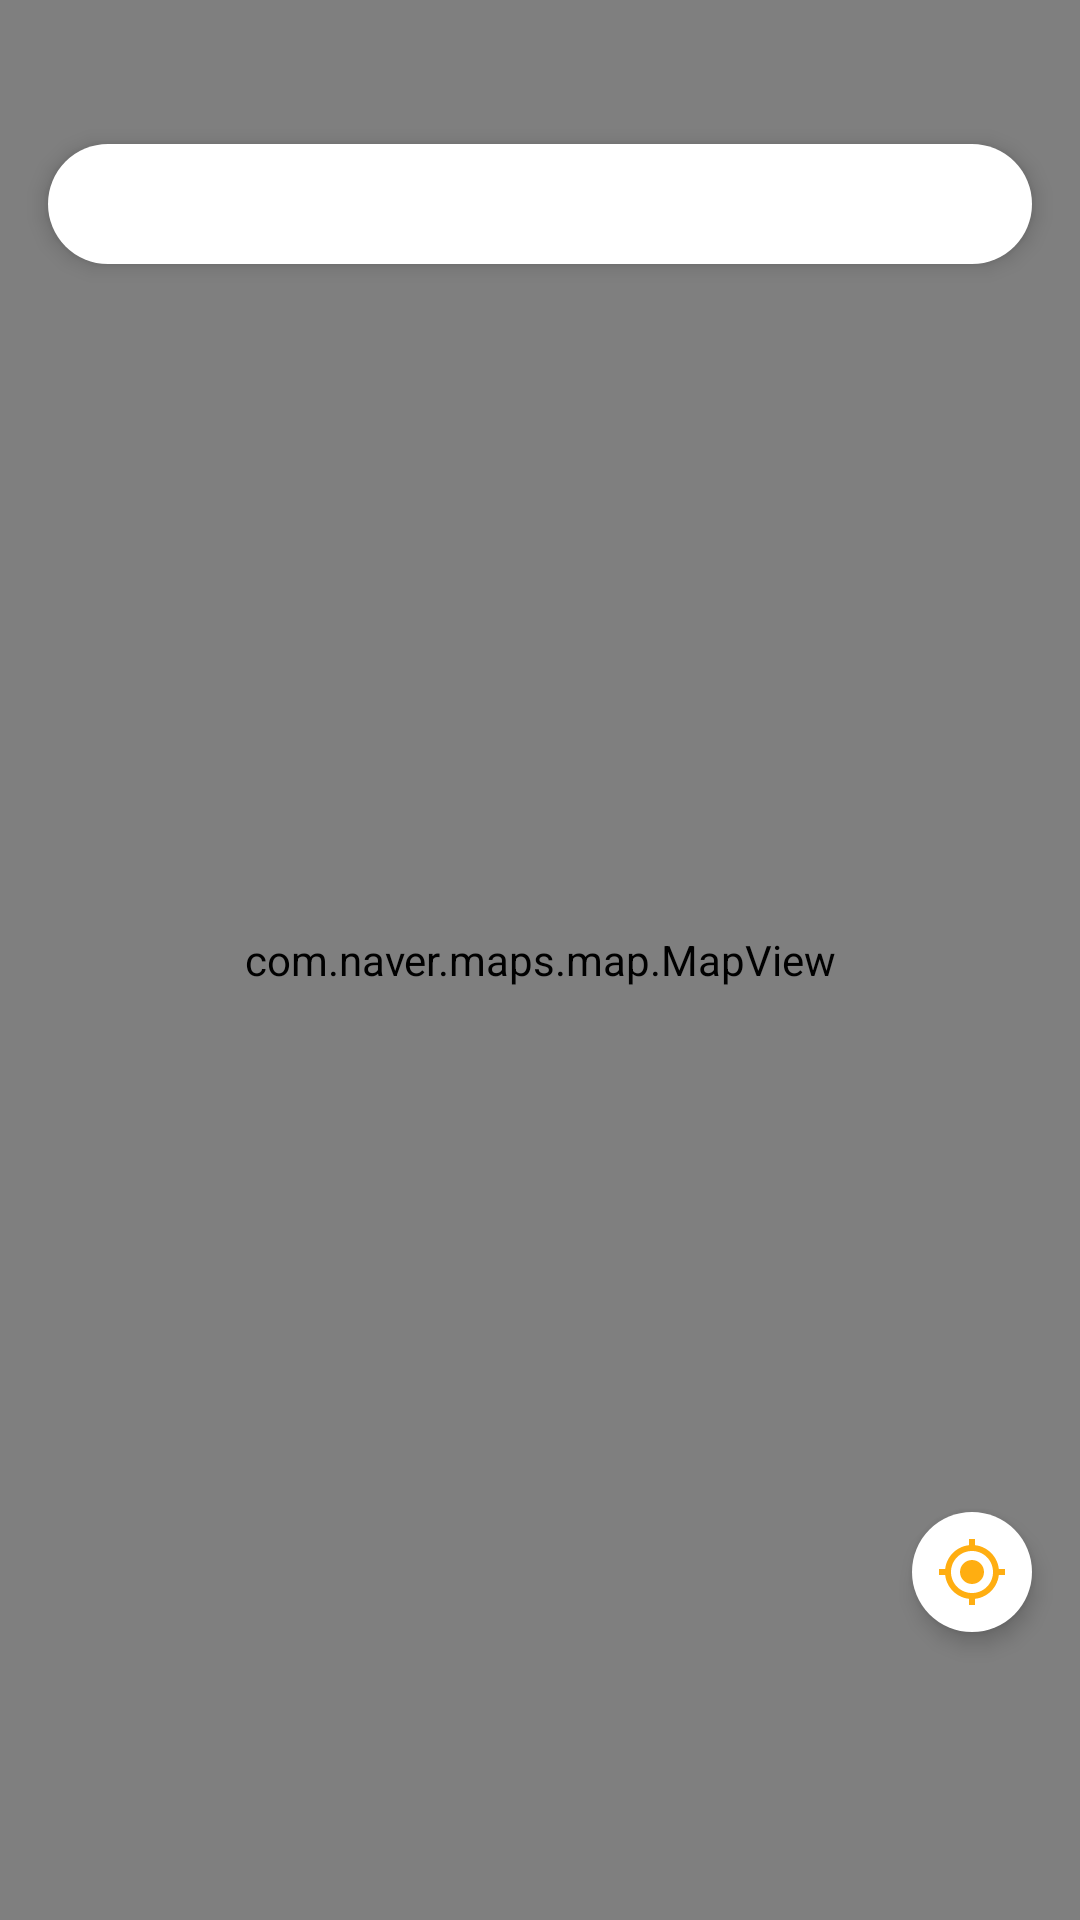

Where icons sit on this 1080 × 1920 app screen, as bbox=[x1, y1, x2, y2]:
gps fixed: bbox=[912, 1512, 1032, 1632]
